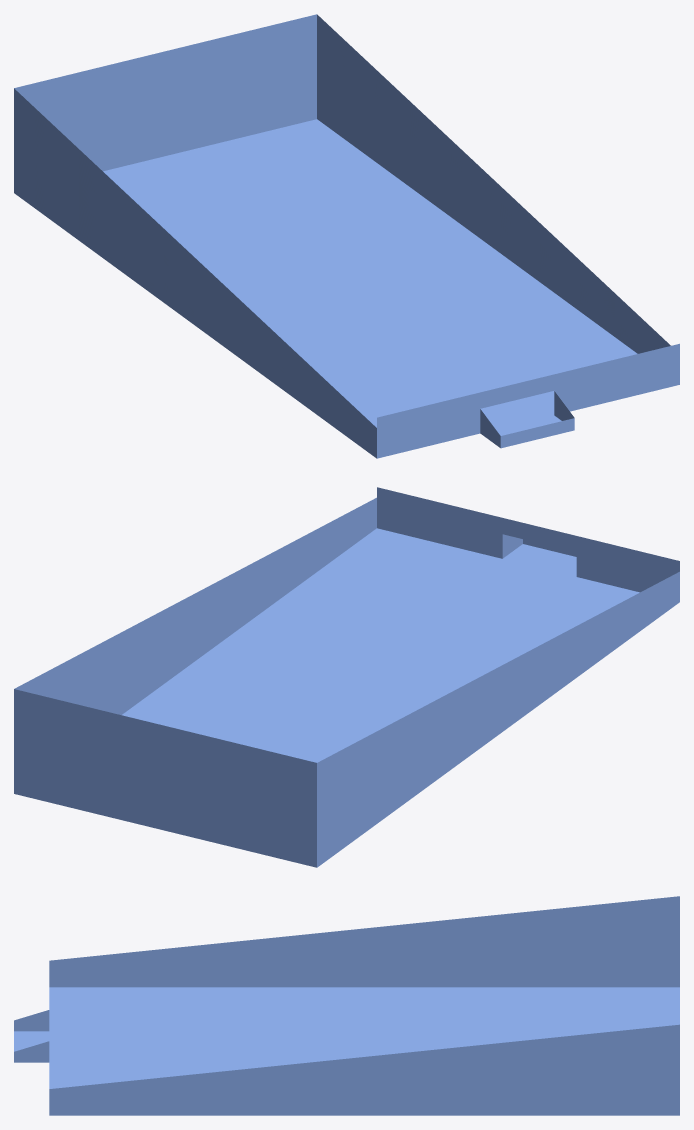
The model's file is Playfield.FBX.
The picture shows the model from 3 angles, top to bottom: view 1: azimuth 30°, elevation 25°; view 2: azimuth 150°, elevation 25°; view 3: azimuth 270°, elevation 25°; orthographic projection. The views are drawn at different scales.
Visible parts, largest first — view 1: Seperate Playfield; view 2: Seperate Playfield; view 3: Seperate Playfield.
Boxes of the visible parts, bbox=[...] form: Seperate Playfield: bbox=[14, 14, 679, 458]; Seperate Playfield: bbox=[14, 487, 679, 867]; Seperate Playfield: bbox=[14, 896, 679, 1115].
Size of the model in its own units: 0.5144 by 1.13 by 0.1701.
